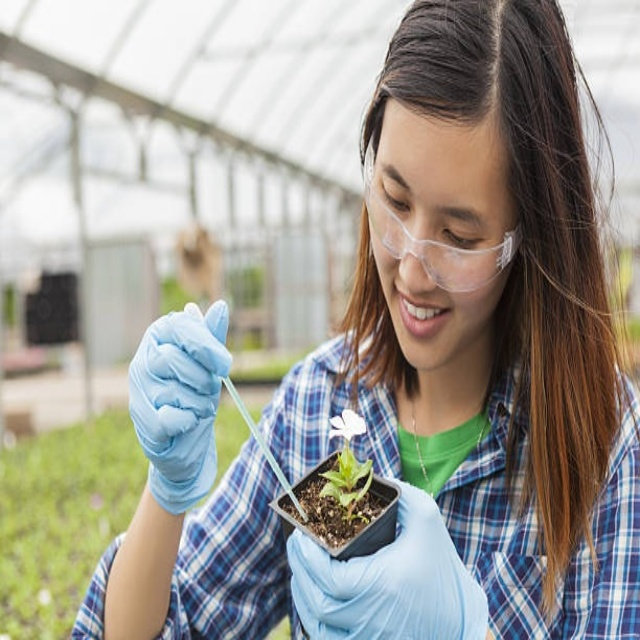Gafas: (363, 137, 524, 293)
Guantes: (289, 483, 490, 640), (126, 299, 232, 515)
Sin_mascara: (387, 278, 462, 367)
